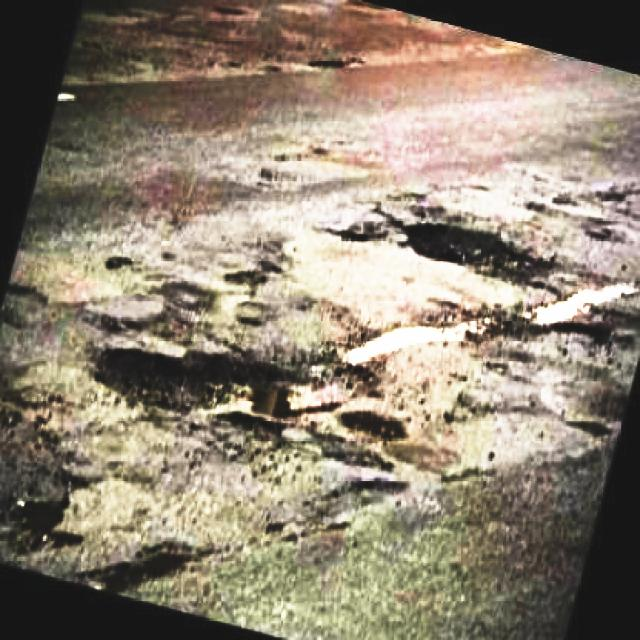pothole: (94, 342, 368, 438), (408, 212, 560, 288), (92, 534, 203, 600), (0, 480, 91, 557), (340, 409, 398, 442)
